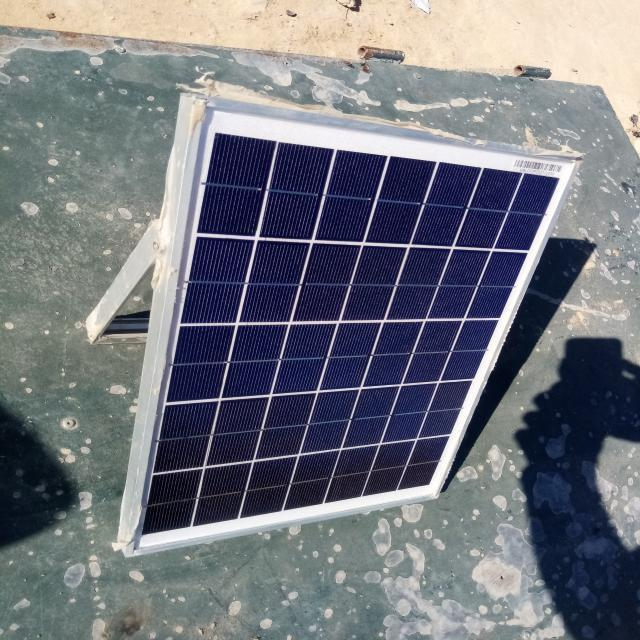Normal Solar Panel: (131, 100, 583, 552)
